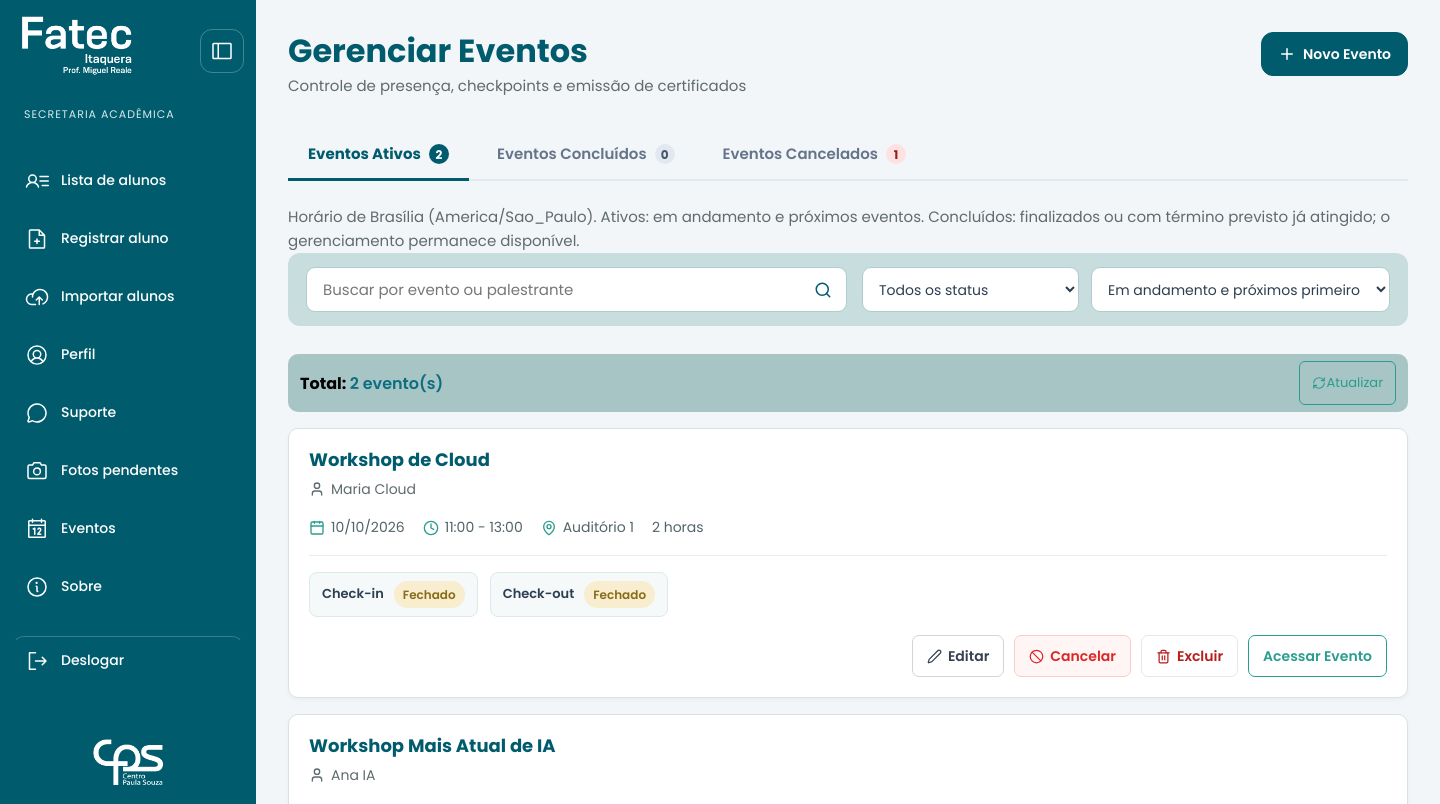
it: SecretariaEventosScreen › shows an empty completed tab without losing the create action
Check: the heading "Workshop de Cloud" is shown, box left=309, top=449, right=490, bottom=471
Click the tab "Eventos Concluídos 0". click: (586, 156)
box: left=477, top=130, right=695, bottom=181
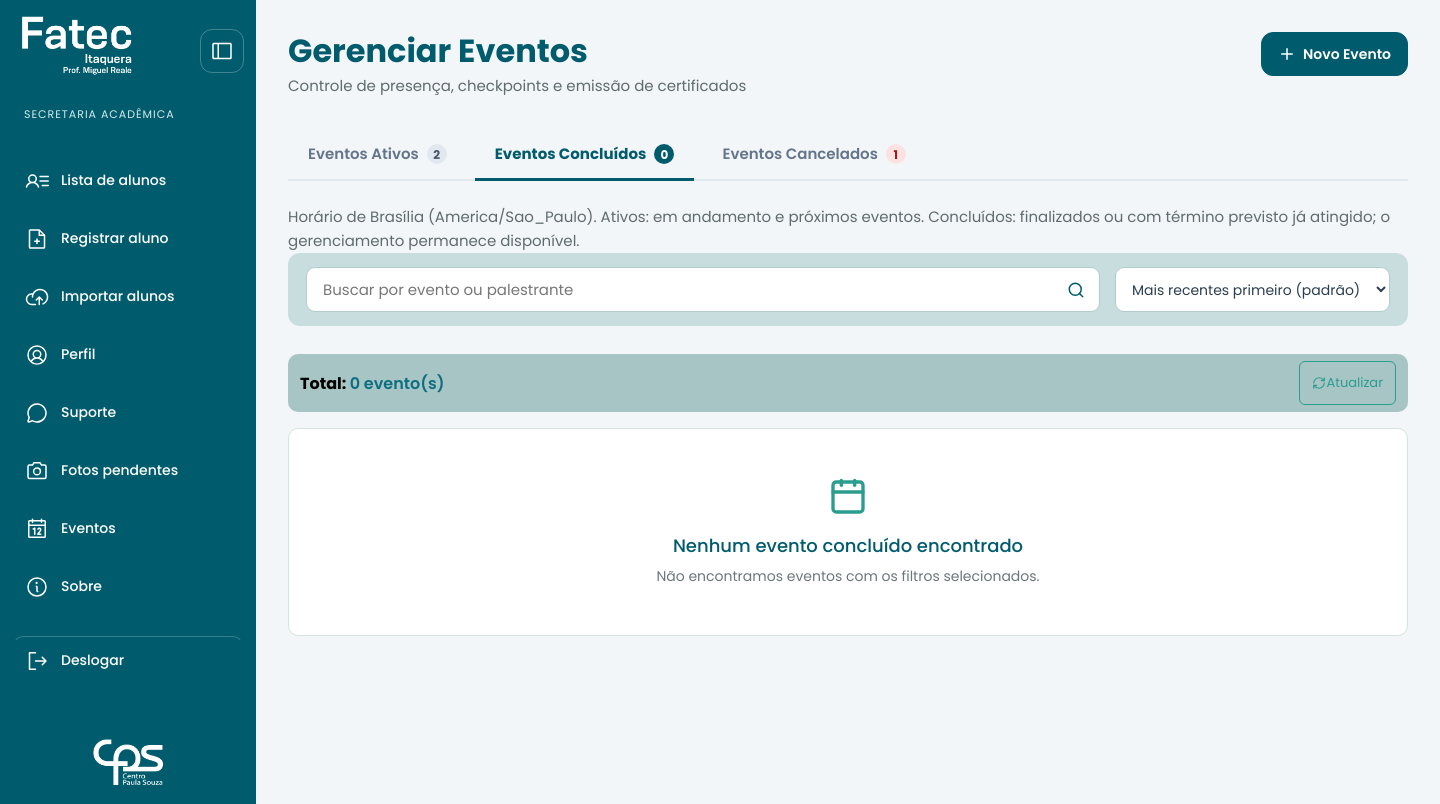
Check: the button "Novo Evento" is shown, box left=1261, top=32, right=1408, bottom=76
Check: the heading "Nenhum evento concluído encontrado" is shown, box left=673, top=535, right=1023, bottom=557
